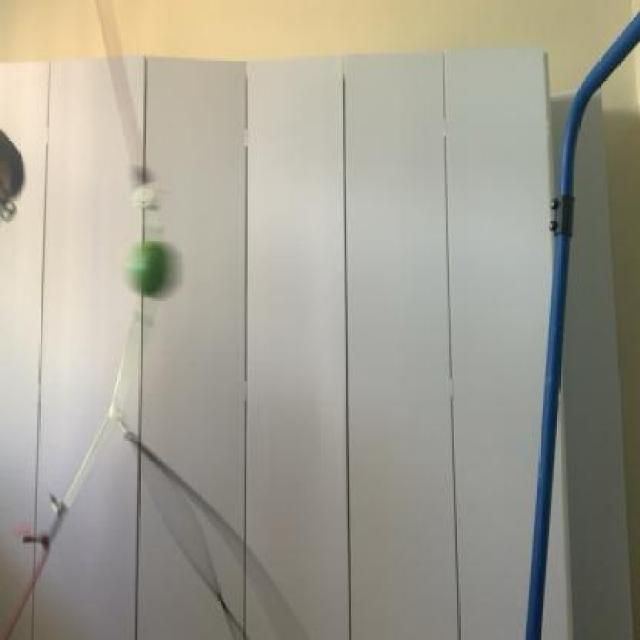baseball: (131, 235, 191, 307)
